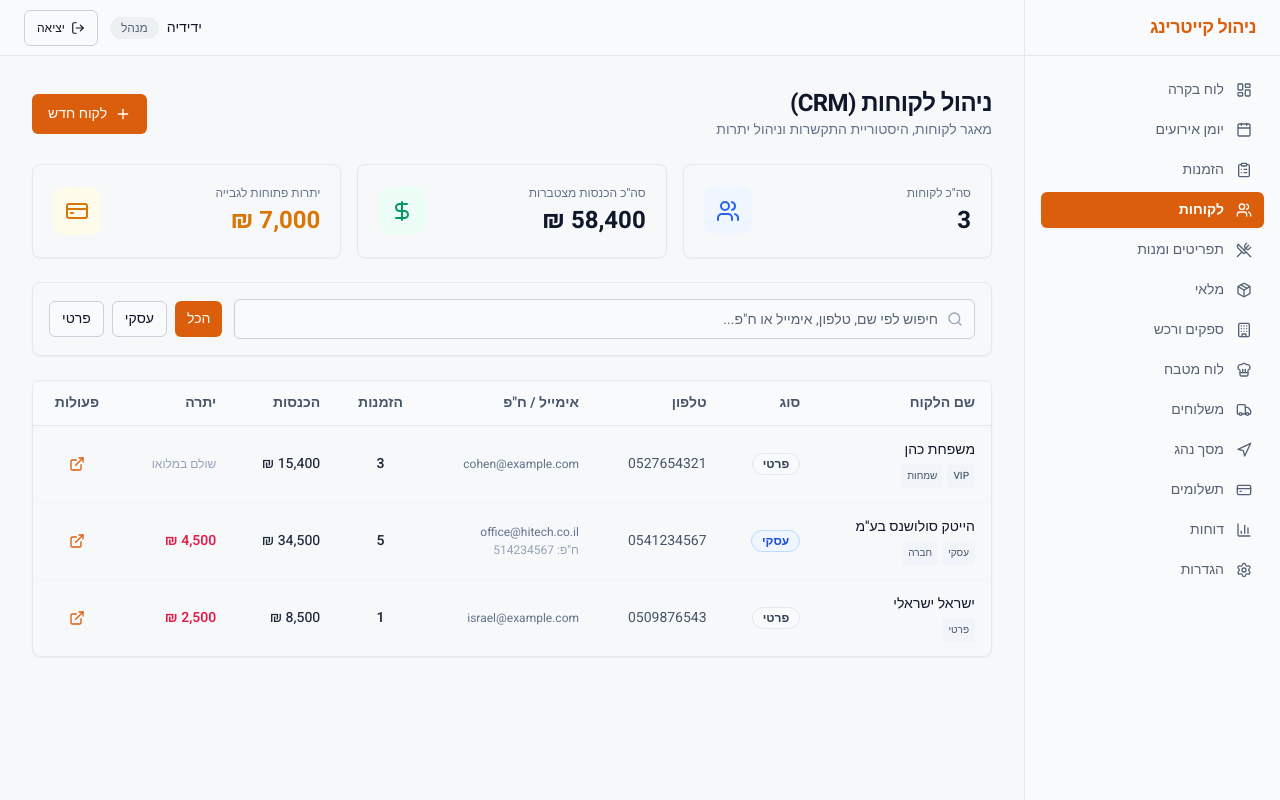
Test: S08 Customers CRM › filters customers by search query
Expected: the link "הייטק סולושנס בע\"מ" is shown, [855,516,975,537]
Type "ישראלי" into the field with placeholder "חיפוש לפי שם, טלפון, אימייל או ח\"פ..." at (605, 319), box [234,299,975,339]
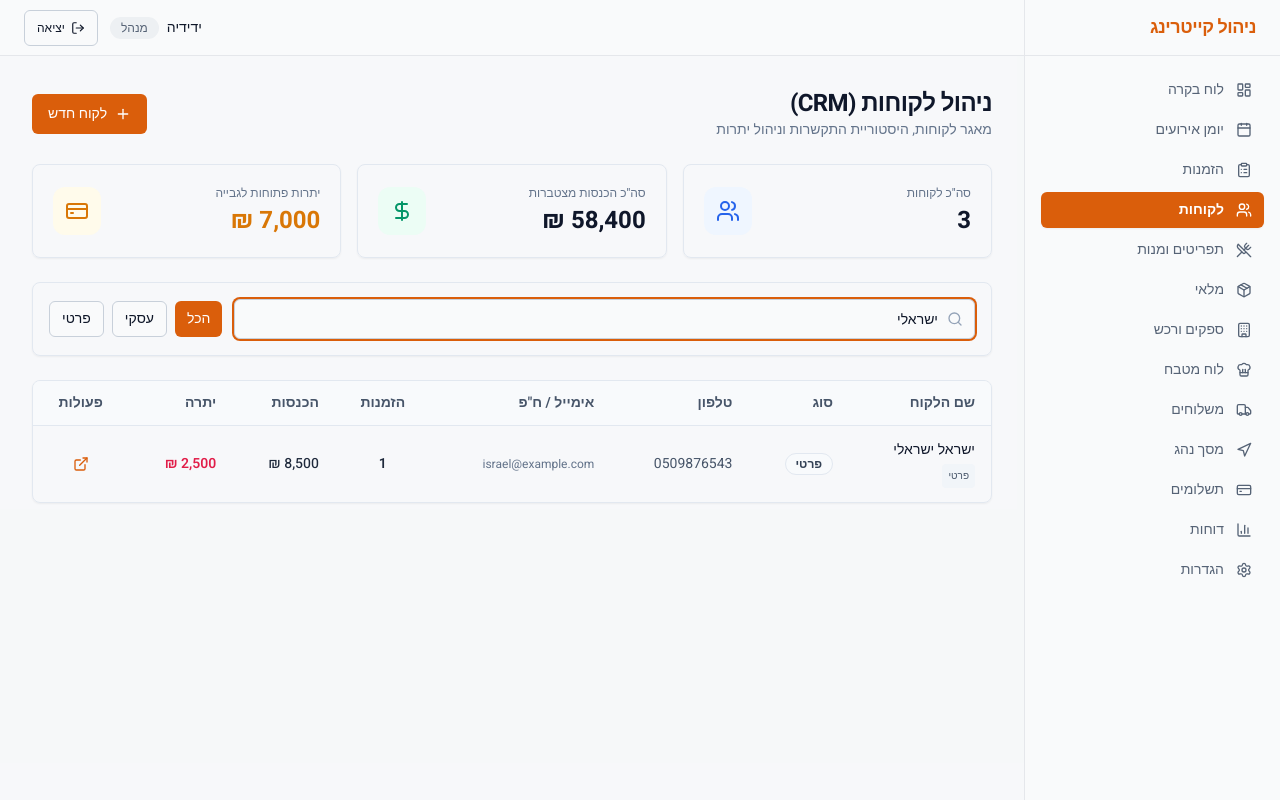
Expected: the link "ישראל ישראלי" is shown, [893,439,975,460]
Now the link "הייטק סולושנס בע\"מ" is gone
